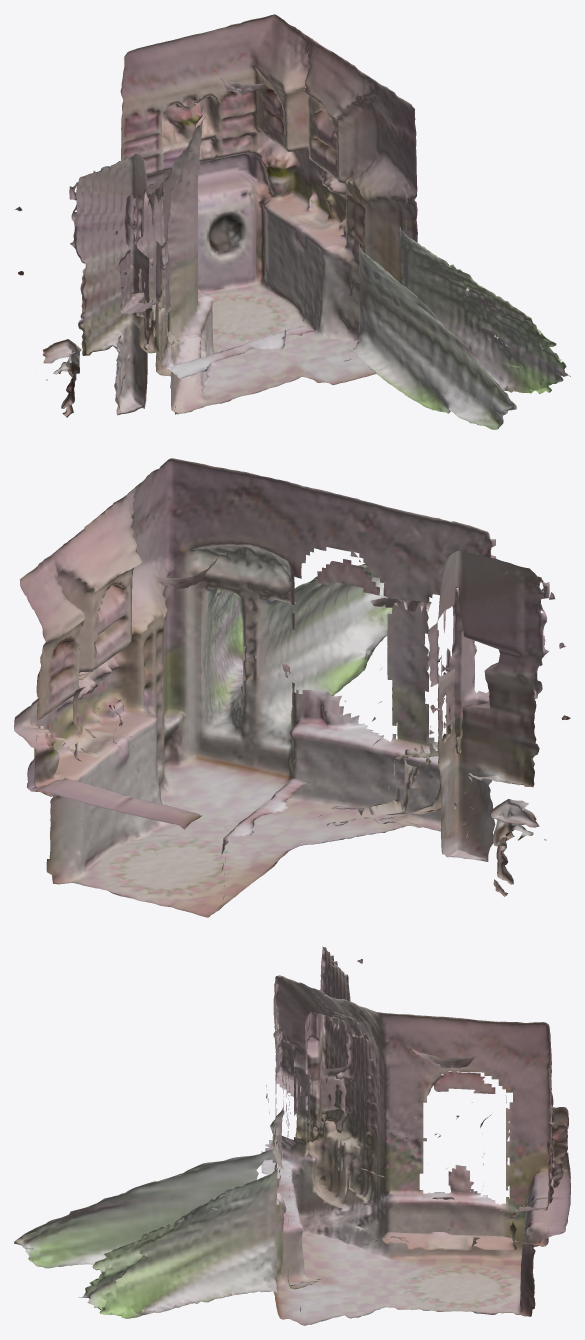
File: lavender-laundry-1-1-pano_collider.glb
3 renders of one model, top to bottom at view 1: azimuth 30°, elevation 25°; view 2: azimuth 150°, elevation 25°; view 3: azimuth 270°, elevation 25°, orthographic. The views are drawn at different scales.
Parts seen in each view (by area): view 1: world; view 2: world; view 3: world.
Part boxes in pixels (x1,y1,x2,y2): world: [14, 14, 570, 429]; world: [14, 458, 570, 917]; world: [14, 946, 570, 1325].
Size of the model in its own units: 5.19 by 3.22 by 6.44.
